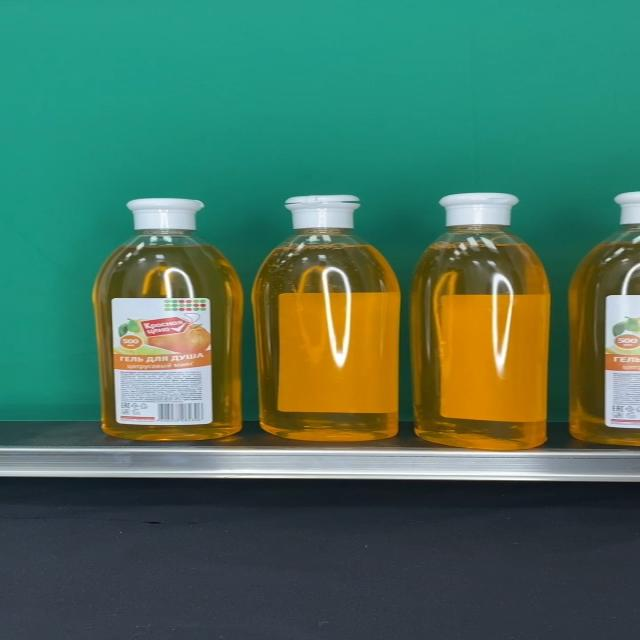Bottle: (252, 195, 402, 442), (93, 198, 244, 441), (410, 193, 551, 449)
Cap: (438, 193, 520, 226), (284, 195, 360, 229), (126, 198, 204, 231)
